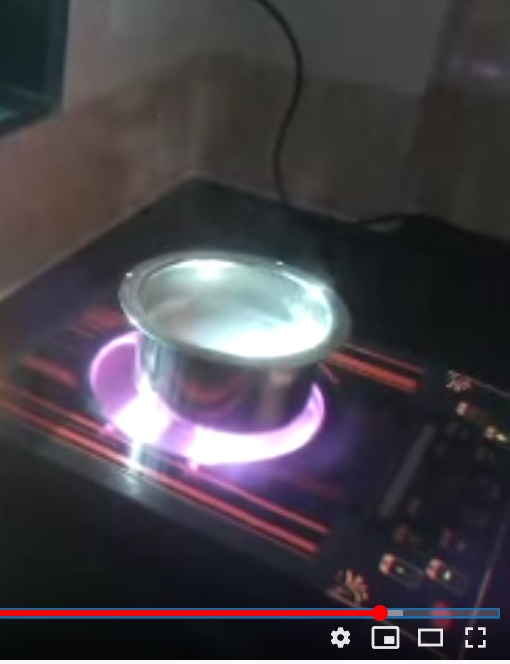Steaming: (120, 230, 351, 427)
